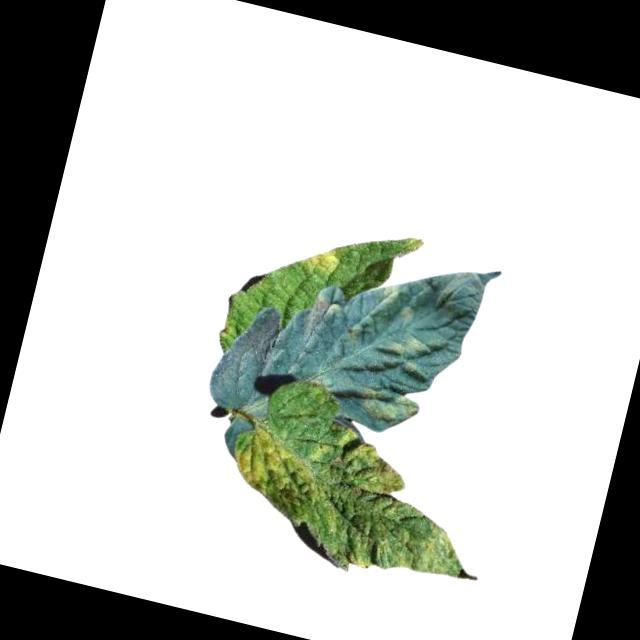Leaf_Mold: (213, 399, 491, 596), (357, 380, 425, 429), (374, 330, 433, 379), (292, 237, 343, 278), (302, 293, 342, 338)
